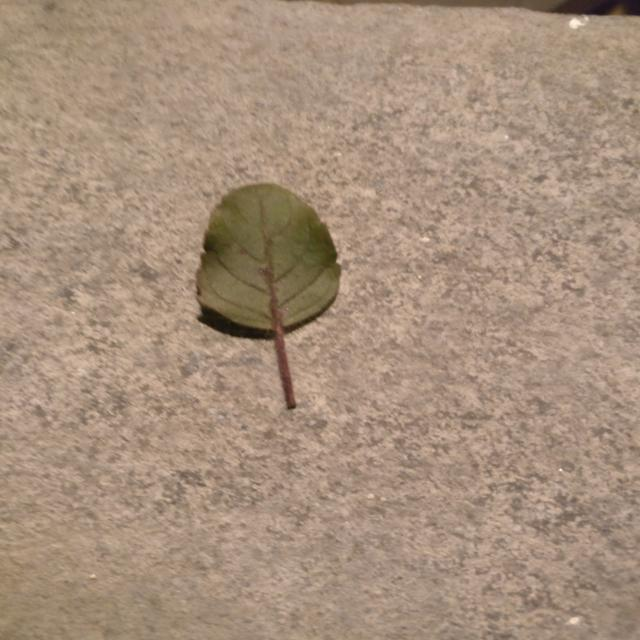tulsi: (197, 184, 340, 400)
